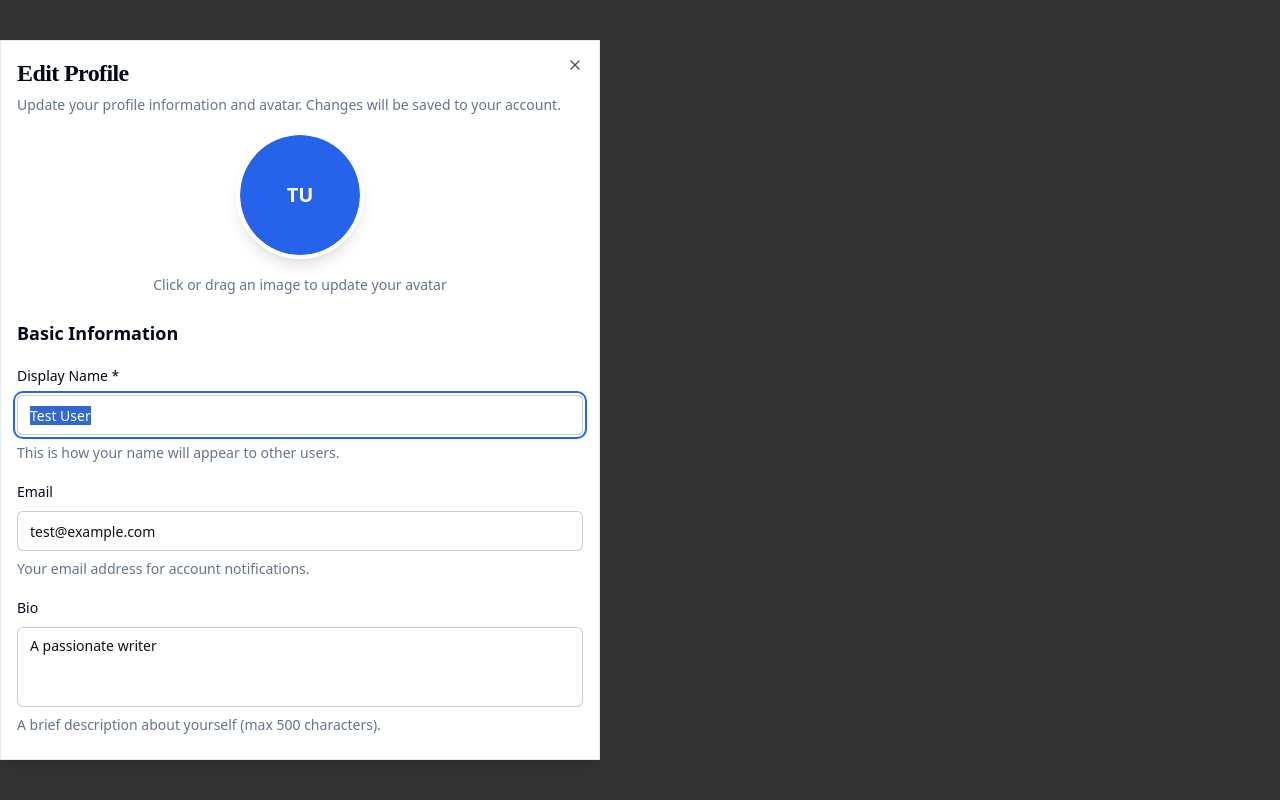
Test: EditProfileModal › enables save button when changes are made
In the field labelled "Display Name *": {"x": 300, "y": 415} [17,395,583,435], type " Updated"
(page scrolled)
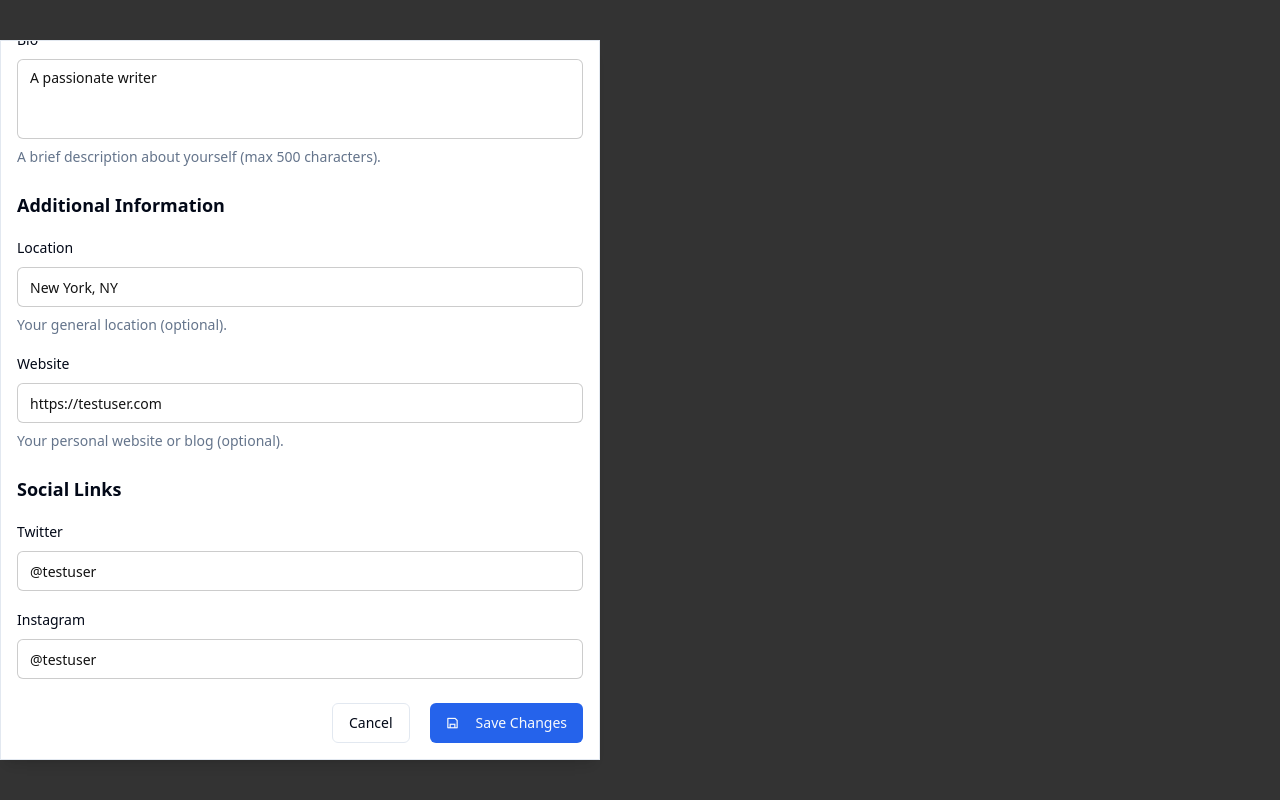
Now the button "Save Changes" is enabled, box [430,703,583,743]
